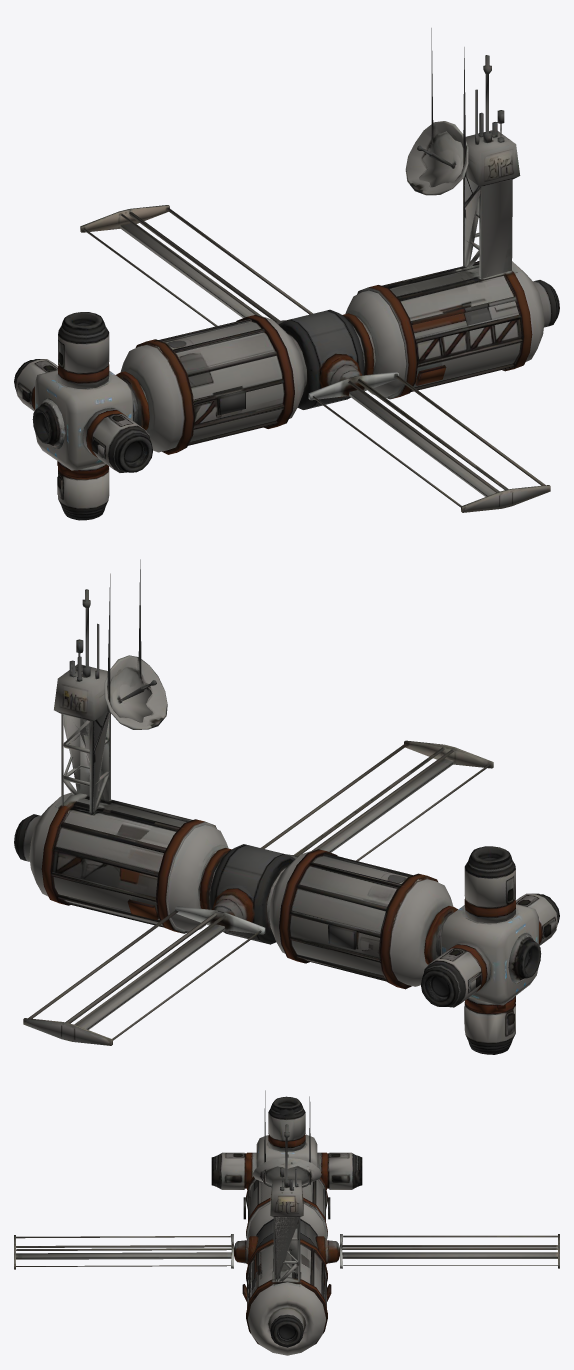
File: original_glb.glb
3 views of the same model, one above another, from view 1: azimuth 30°, elevation 25°; view 2: azimuth 150°, elevation 25°; view 3: azimuth 270°, elevation 25° (orthographic). The views are drawn at different scales.
Visible parts, largest first — view 1: Lunar Gateway; view 2: Lunar Gateway; view 3: Lunar Gateway.
Boxes of the visible parts, x1=… form: Lunar Gateway: x1=14, y1=28, x2=559, y2=520; Lunar Gateway: x1=14, y1=559, x2=559, y2=1054; Lunar Gateway: x1=14, y1=1090, x2=559, y2=1355.
Size of the model in its own units: 0.7676 by 0.5723 by 0.998.
Materials: 1 (1 with a texture image).
